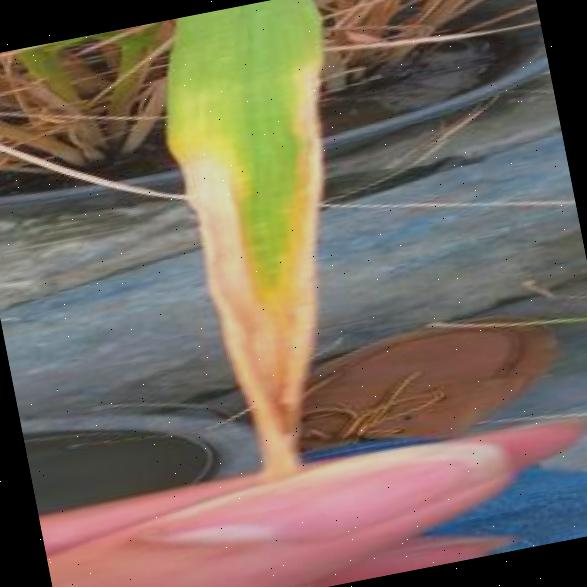Bacteria_Leaf_Blight: (144, 22, 388, 470)
